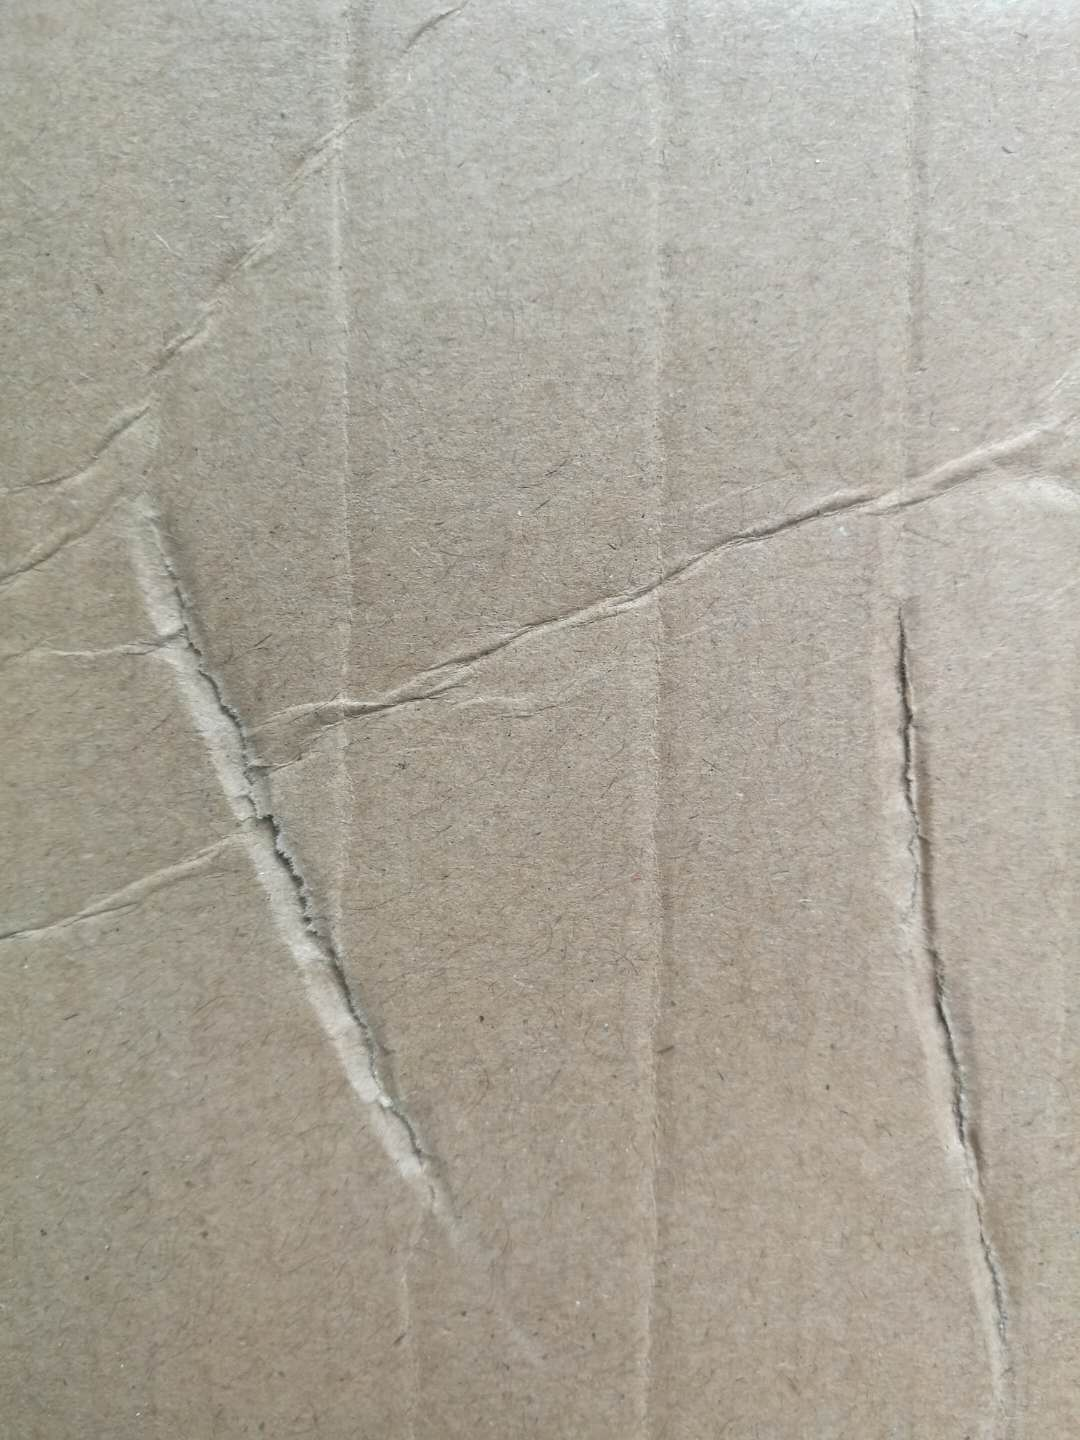defect: (1, 361, 1080, 966), (102, 444, 560, 1365), (2, 1, 548, 681), (579, 5, 734, 1440), (834, 565, 1080, 1428), (843, 1, 989, 615)
